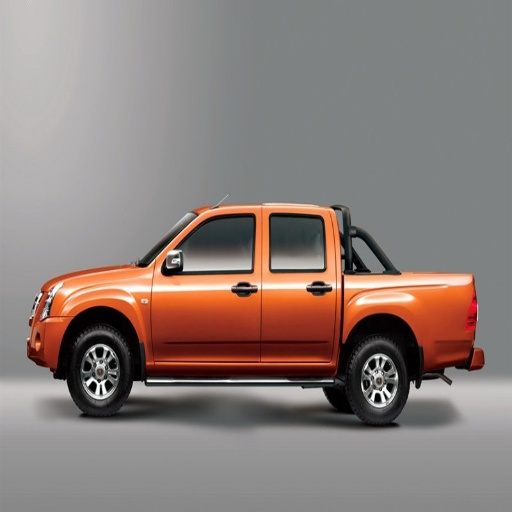back_left_door: (261, 211, 335, 360)
front_left_door: (151, 211, 261, 364)
trunk: (334, 276, 472, 370)
